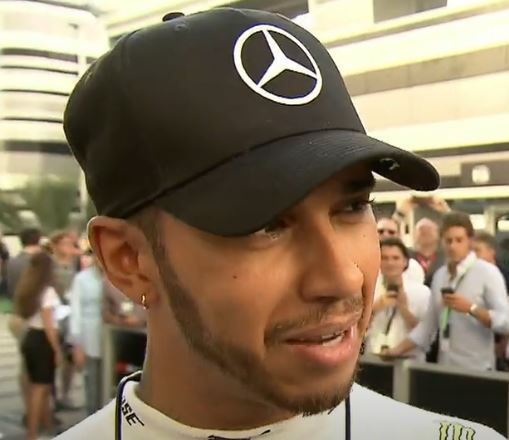mole: (226, 270, 244, 283)
